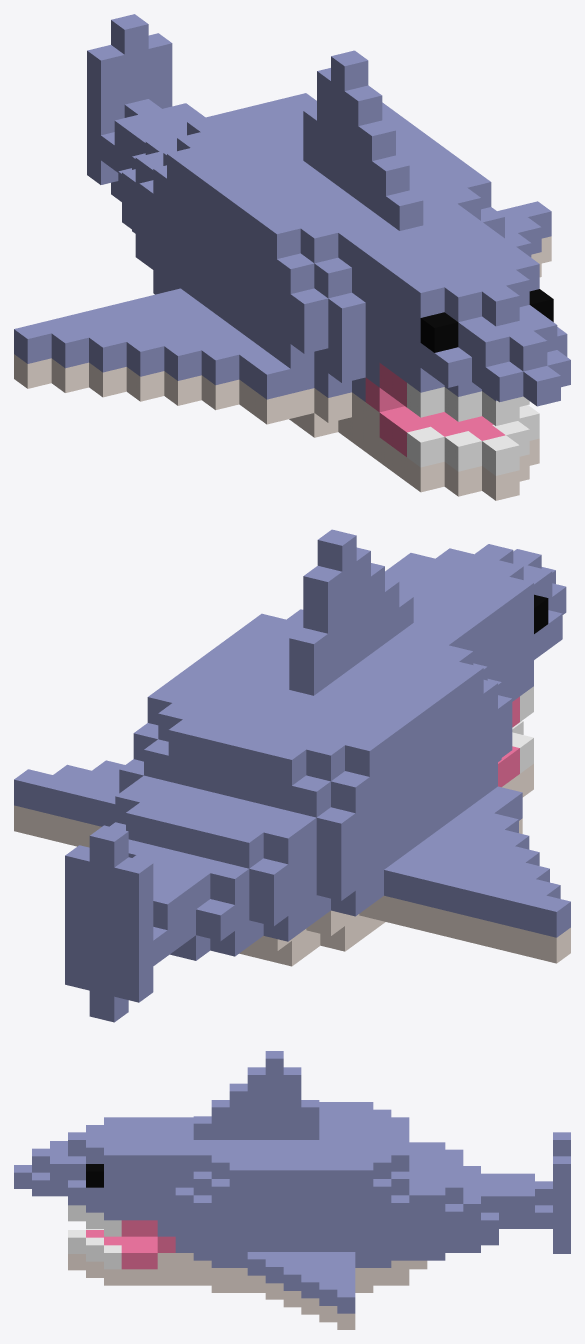
Rendered from shork.gltf.
3 views of the same model, one above another, from view 1: azimuth 30°, elevation 25°; view 2: azimuth 150°, elevation 25°; view 3: azimuth 270°, elevation 25° (orthographic). The views are drawn at different scales.
Parts seen in each view (by area): view 1: Layer.1; view 2: Layer.1; view 3: Layer.1.
Part boxes in pixels (x1=…): Layer.1: x1=14, y1=14, x2=570, y2=500; Layer.1: x1=14, y1=529, x2=570, y2=1022; Layer.1: x1=14, y1=1051, x2=570, y2=1329.
Bounding box in the file's own units: 22 × 13 × 31.
Materials: 1 (1 with a texture image).
